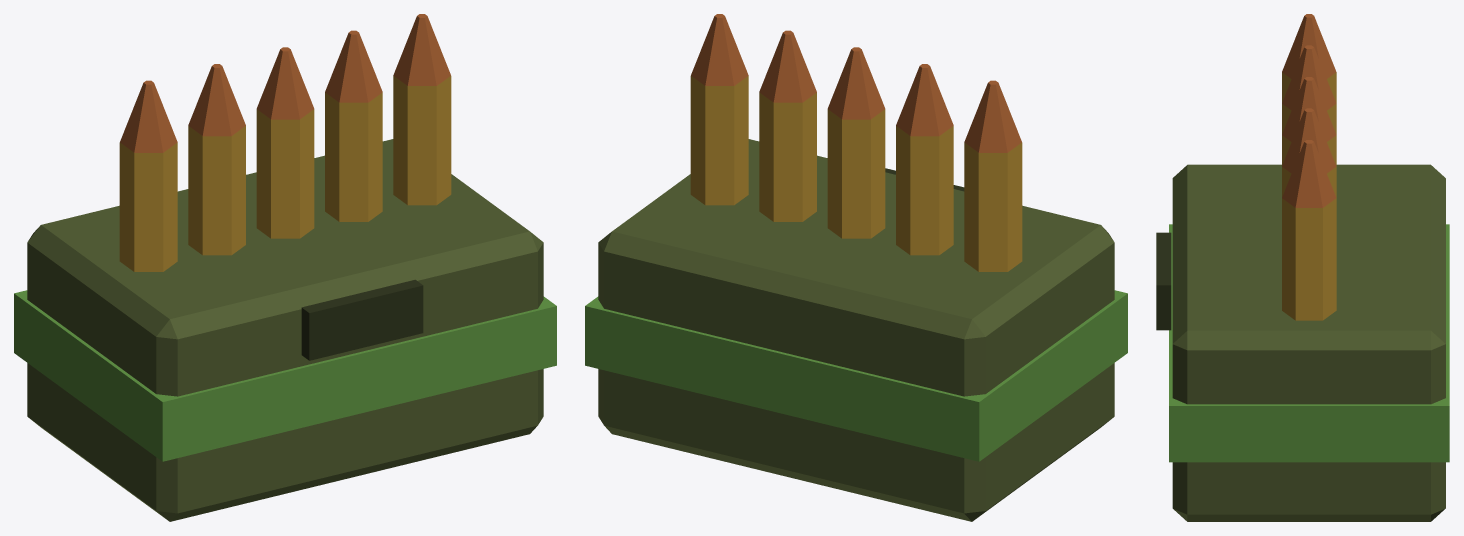
Rendered from ammo_rifle.glb.
3 renders of one model, left to right at view 1: azimuth 30°, elevation 25°; view 2: azimuth 150°, elevation 25°; view 3: azimuth 270°, elevation 25°, orthographic. The views are drawn at different scales.
Parts seen in each view (by area): view 1: AmmoRifle; view 2: AmmoRifle; view 3: AmmoRifle.
Part boxes in pixels (box(x1,y1,x2,y2)): AmmoRifle: box(14, 14, 556, 521); AmmoRifle: box(585, 14, 1127, 521); AmmoRifle: box(1156, 14, 1449, 521).
Bounding box in the file's own units: 0.346 × 0.32 × 0.236.
